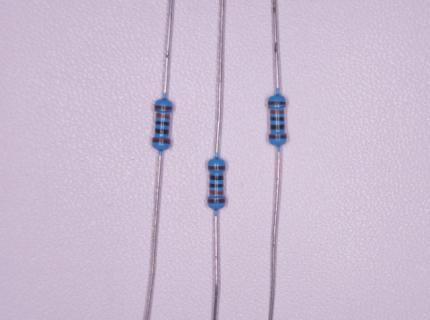Black band: (155, 128, 169, 135), (155, 121, 169, 126), (210, 175, 224, 180), (271, 125, 285, 130), (210, 184, 224, 188), (270, 117, 284, 121)
Brown band: (153, 138, 171, 144), (154, 105, 173, 110), (207, 199, 226, 204), (269, 135, 287, 140), (268, 101, 286, 105), (208, 166, 225, 170)
Orange band: (156, 113, 170, 119), (210, 190, 224, 195), (270, 110, 284, 114)
